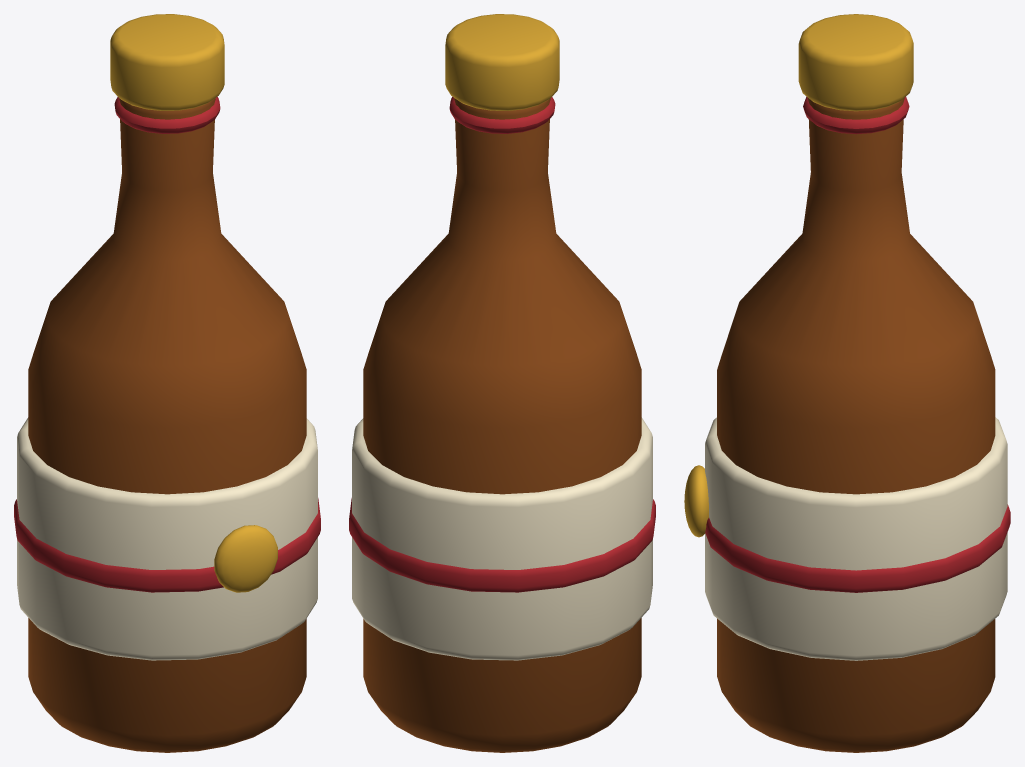
File: whisky.glb
The picture shows the model from 3 angles, left to right: view 1: azimuth 30°, elevation 25°; view 2: azimuth 150°, elevation 25°; view 3: azimuth 270°, elevation 25°; orthographic projection.
Visible parts, largest first — view 1: whisky; view 2: whisky; view 3: whisky.
Part boxes in pixels (<box>): whisky: <box>14,14,320,752</box>; whisky: <box>349,14,655,752</box>; whisky: <box>684,14,1010,752</box>.
Size of the model in its own units: 0.51 by 1.23 by 0.539.
